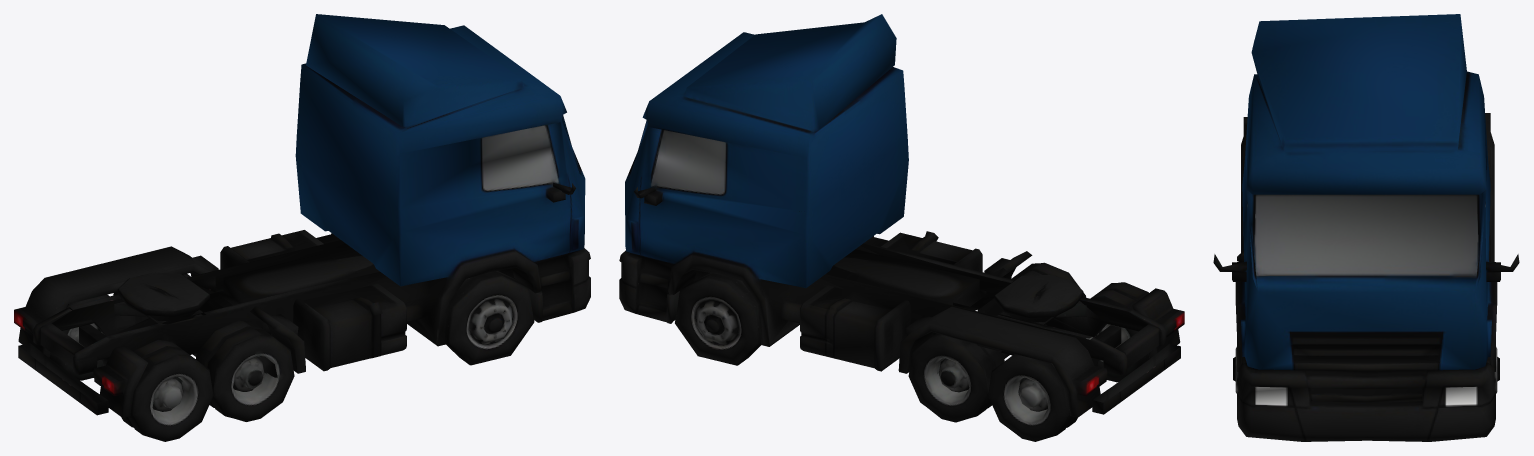
File: cab-tripo.glb
The picture shows the model from 3 angles, left to right: view 1: azimuth 30°, elevation 25°; view 2: azimuth 150°, elevation 25°; view 3: azimuth 270°, elevation 25°; orthographic projection. The views are drawn at different scales.
Visible parts, largest first — view 1: tripo_node_5a6a4196-4ce8-45d2-90cc-326af72ce093; view 2: tripo_node_5a6a4196-4ce8-45d2-90cc-326af72ce093; view 3: tripo_node_5a6a4196-4ce8-45d2-90cc-326af72ce093.
Boxes of the visible parts, x1,y1,x2,y2 form: tripo_node_5a6a4196-4ce8-45d2-90cc-326af72ce093: (14,14,590,441); tripo_node_5a6a4196-4ce8-45d2-90cc-326af72ce093: (619,14,1184,441); tripo_node_5a6a4196-4ce8-45d2-90cc-326af72ce093: (1213,14,1519,441).
Size of the model in its own units: 1 by 0.5871 by 0.456.
1 material, 1 textured.
